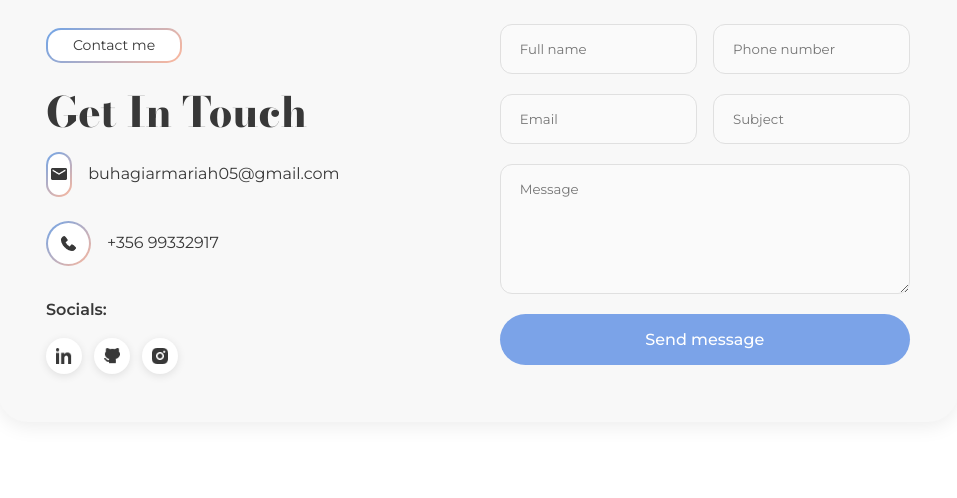
ContactForm validation › shows error for invalid email
// simulate user typing an invalid email
In the field with placeholder "Email": {"x": 598, "y": 120} [500,94,697,144], type "not-an-email"
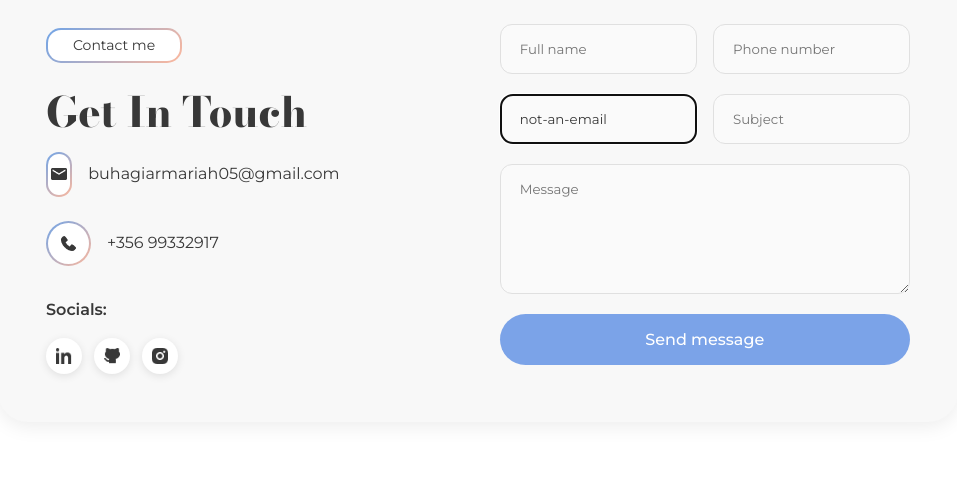
// simulate user clicking the submit button
Click the button "Send message": {"x": 705, "y": 340} [500,314,910,366]
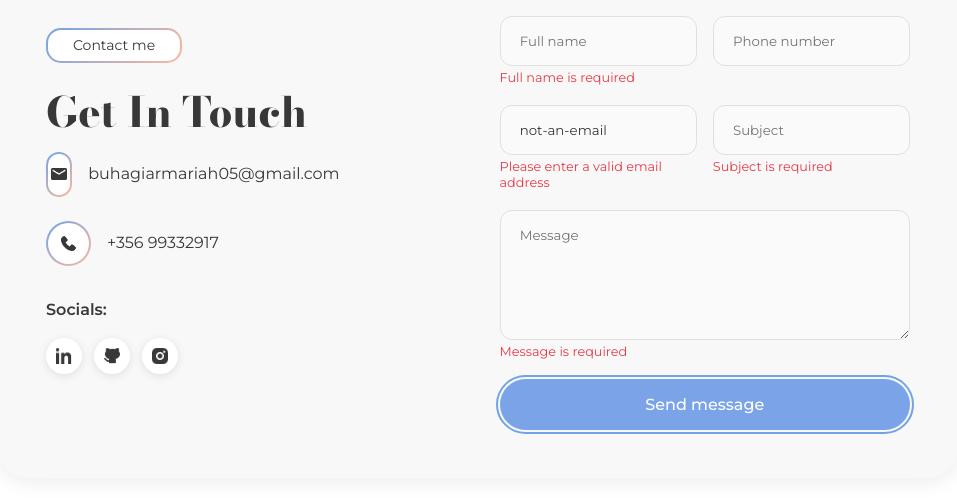
Check: the text "Please enter a valid email address" is shown, box [500,159,662,190]
